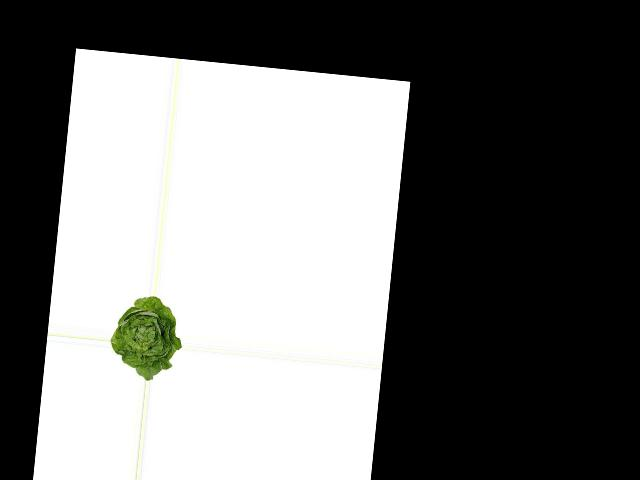lettuce: (108, 292, 186, 381)
